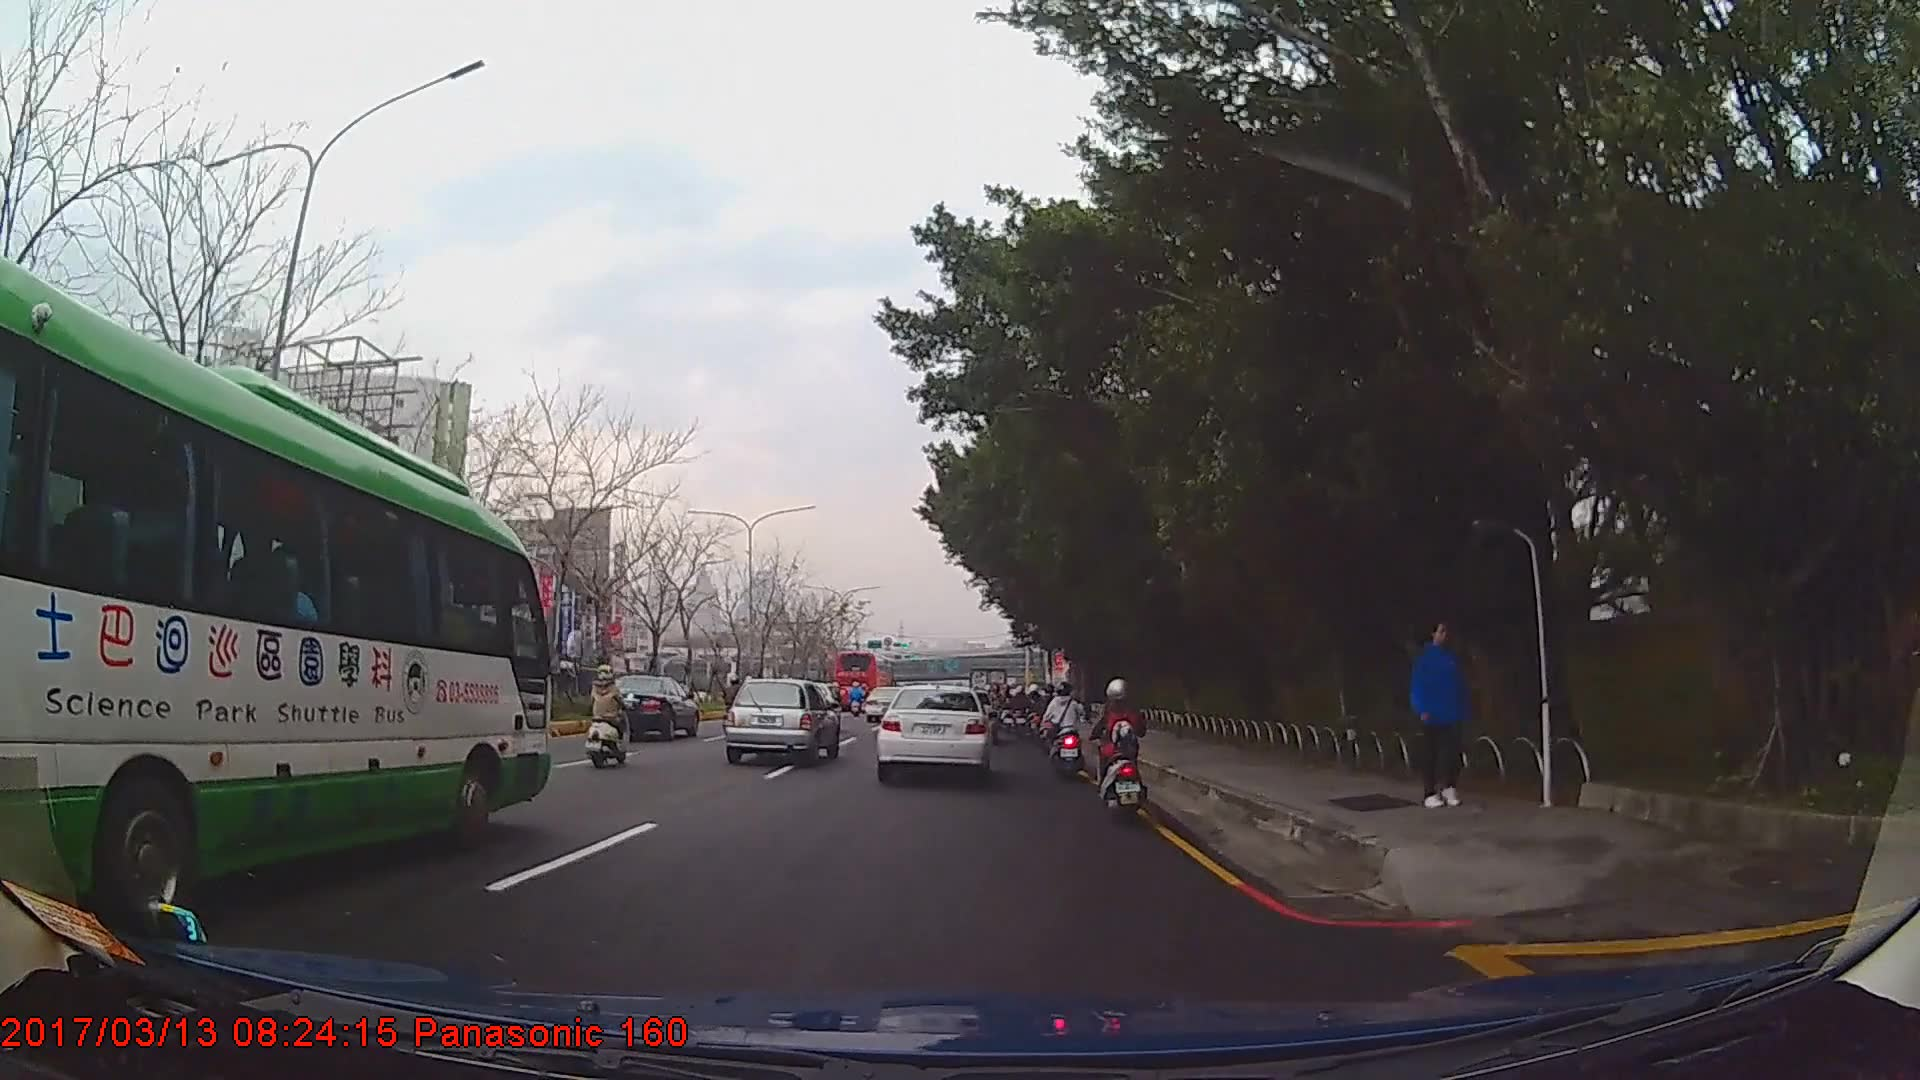pedestrian: (1408, 617, 1469, 808)
rider: (1096, 675, 1147, 820), (588, 662, 635, 770), (1042, 678, 1086, 779), (1038, 684, 1059, 752), (724, 674, 746, 725)
vehicle: (0, 247, 551, 946), (877, 680, 993, 780), (723, 674, 839, 764), (601, 673, 700, 738), (829, 646, 898, 707)
